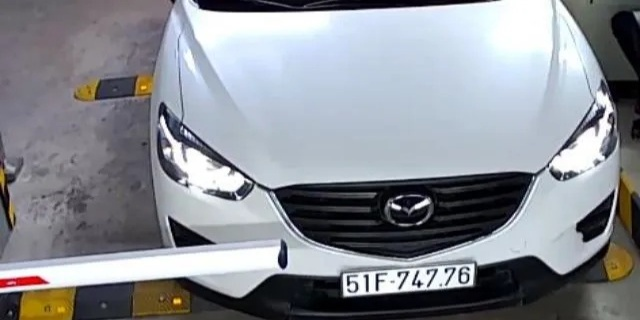bien_so: (342, 265, 475, 296)
